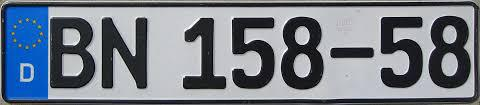1: (178, 15, 229, 91)
5: (229, 14, 277, 91), (379, 14, 425, 89)
8: (427, 12, 473, 90), (279, 15, 326, 91)
B: (48, 14, 96, 91)
N: (100, 13, 150, 90)
